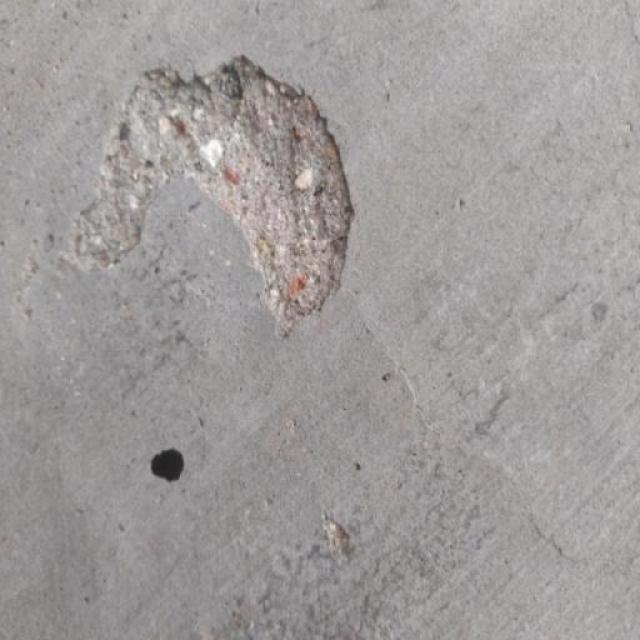D10: (71, 52, 354, 336)
